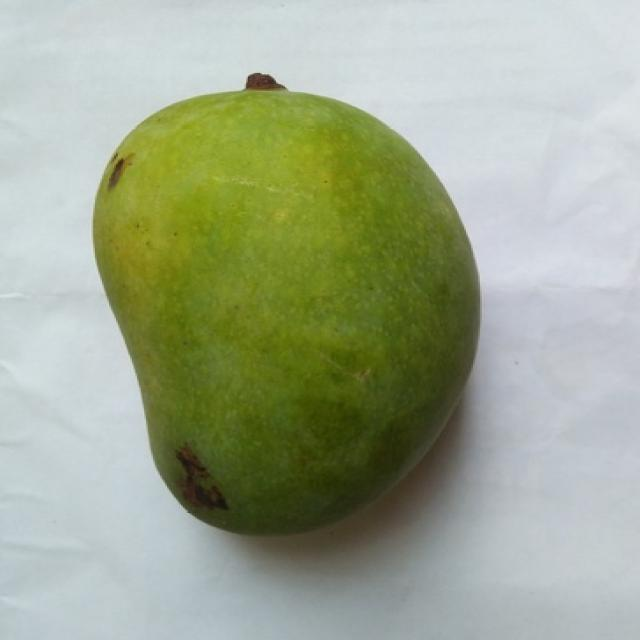Mango: (95, 88, 476, 533)
